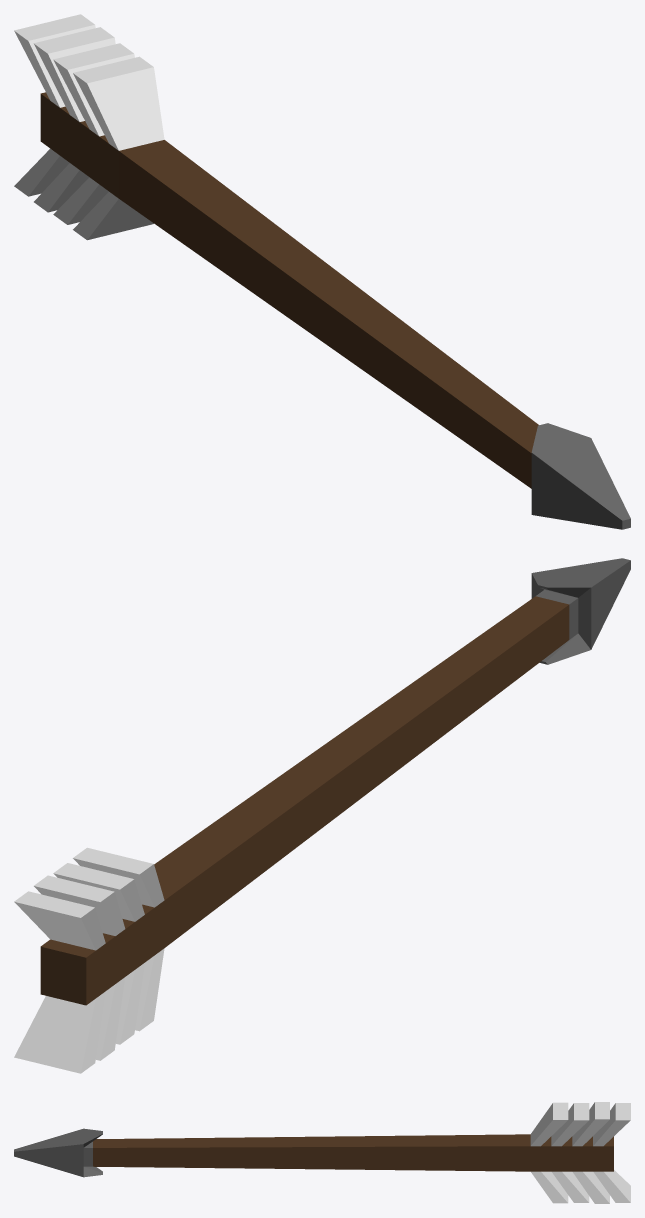
File: item_holy_arrow.fbx
The picture shows the model from 3 angles, top to bottom: view 1: azimuth 30°, elevation 25°; view 2: azimuth 150°, elevation 25°; view 3: azimuth 270°, elevation 25°; orthographic projection. The views are drawn at different scales.
Parts seen in each view (by area): view 1: item_holy_arrow; view 2: item_holy_arrow; view 3: item_holy_arrow.
Part boxes in pixels (x1=…): item_holy_arrow: x1=14, y1=14, x2=630, y2=529; item_holy_arrow: x1=14, y1=558, x2=630, y2=1073; item_holy_arrow: x1=14, y1=1102, x2=630, y2=1203.
Bounding box in the file's own units: 65.36 × 148 × 981.
